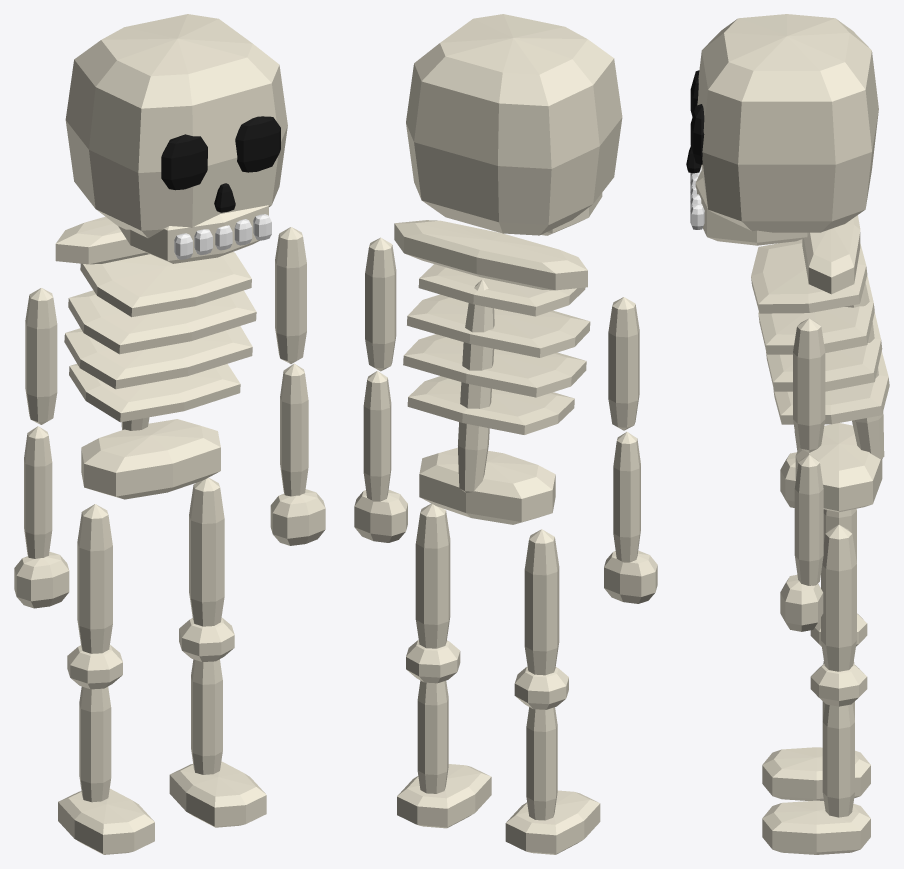
File: mon-skeleton-1.glb
The picture shows the model from 3 angles, left to right: view 1: azimuth 30°, elevation 25°; view 2: azimuth 150°, elevation 25°; view 3: azimuth 270°, elevation 25°; orthographic projection. The views are drawn at different scales.
Visible parts, largest first — view 1: head, torso, leg-right, leg-left, arm-right, arm-left; view 2: torso, head, leg-right, leg-left, arm-left, arm-right; view 3: head, torso, leg-left, arm-left, leg-right, arm-right.
Part boxes in pixels (x1,y1,x2,y2): head: [65, 14, 287, 263]; torso: [55, 216, 256, 499]; leg-right: [58, 504, 154, 854]; leg-left: [169, 477, 266, 827]; arm-right: [14, 288, 69, 608]; arm-left: [270, 227, 325, 545]; torso: [394, 220, 590, 524]; head: [406, 14, 622, 235]; leg-right: [505, 529, 600, 854]; leg-left: [397, 503, 491, 828]; arm-left: [354, 237, 407, 542]; arm-right: [604, 297, 657, 603]; head: [686, 14, 878, 245]; torso: [751, 215, 889, 512]; leg-left: [762, 524, 870, 854]; arm-left: [780, 318, 825, 631]; leg-right: [762, 508, 870, 800]; arm-right: [780, 431, 798, 507].
Size of the model in its own units: 0.9345 by 2.32 by 0.5472.
